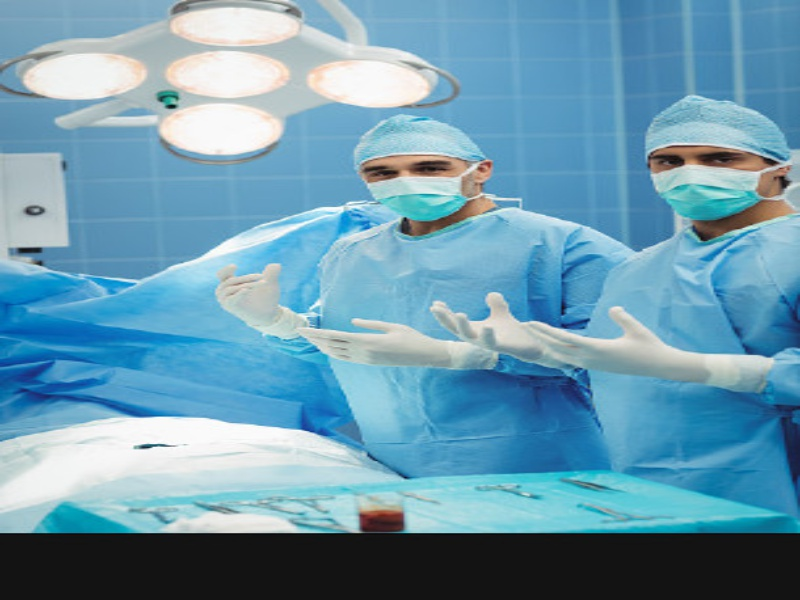mask: (642, 91, 790, 237), (353, 104, 501, 236)
